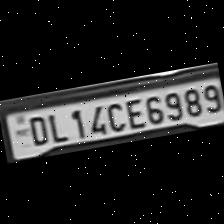1: (62, 104, 86, 139)
4: (83, 100, 107, 136)
6: (140, 90, 164, 124)
8: (178, 83, 202, 118)
9: (196, 78, 222, 114), (160, 86, 184, 121)
C: (102, 97, 126, 132)
D: (22, 110, 50, 146)
E: (120, 94, 144, 129)
L: (44, 108, 68, 142)
